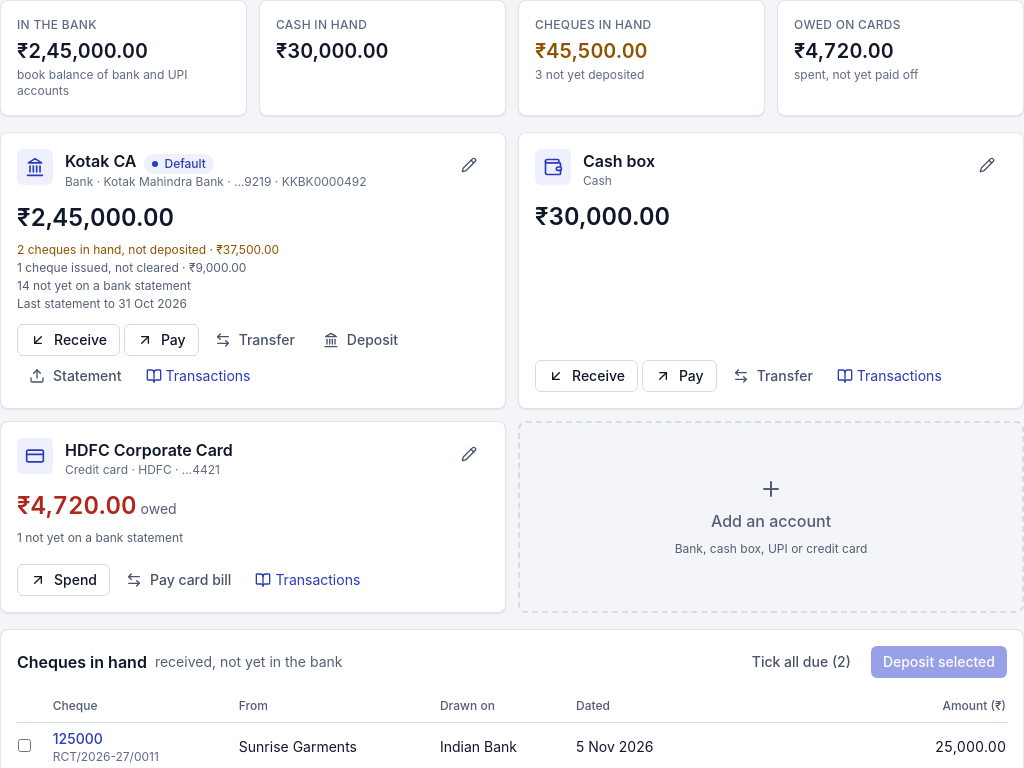
banking › an account is added right here, by an admin
The image size is (1024, 768).
Click the button "Add an account Bank, cash box, UPI or credit card". click: [771, 517]
box: [518,421,1023,613]
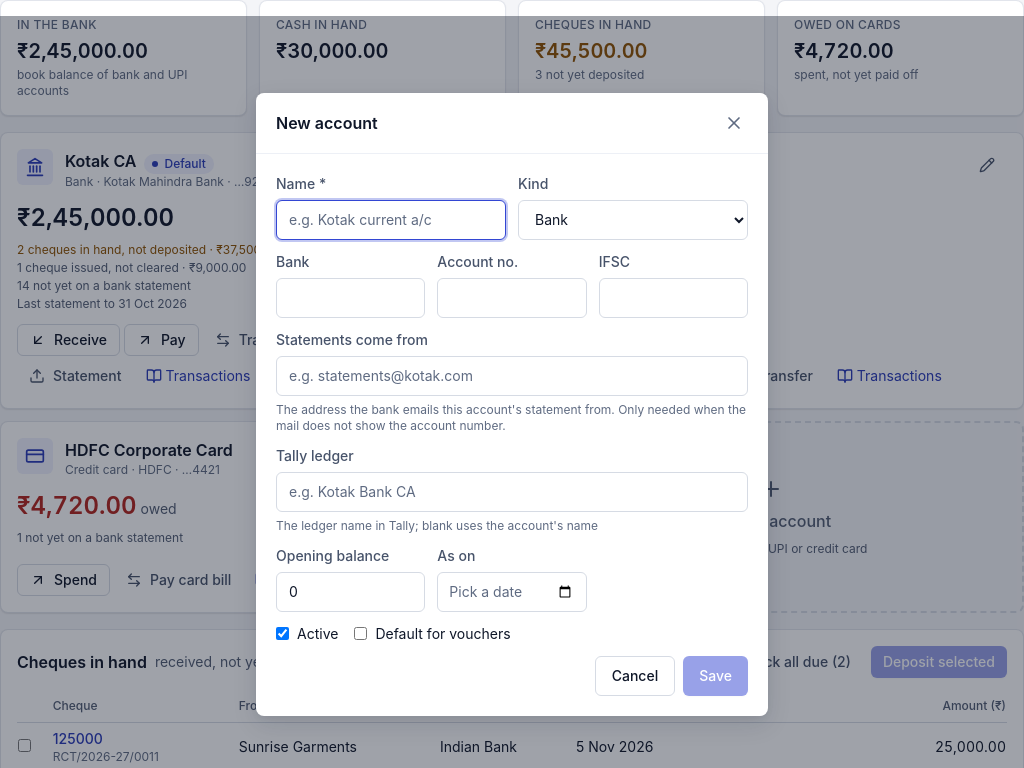
Result: the dialog shows "New account" at [276,113,378,133]
